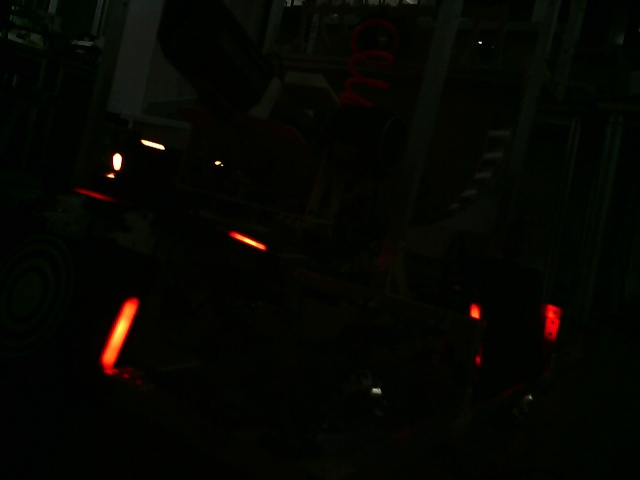lamp: (100, 293, 139, 372)
